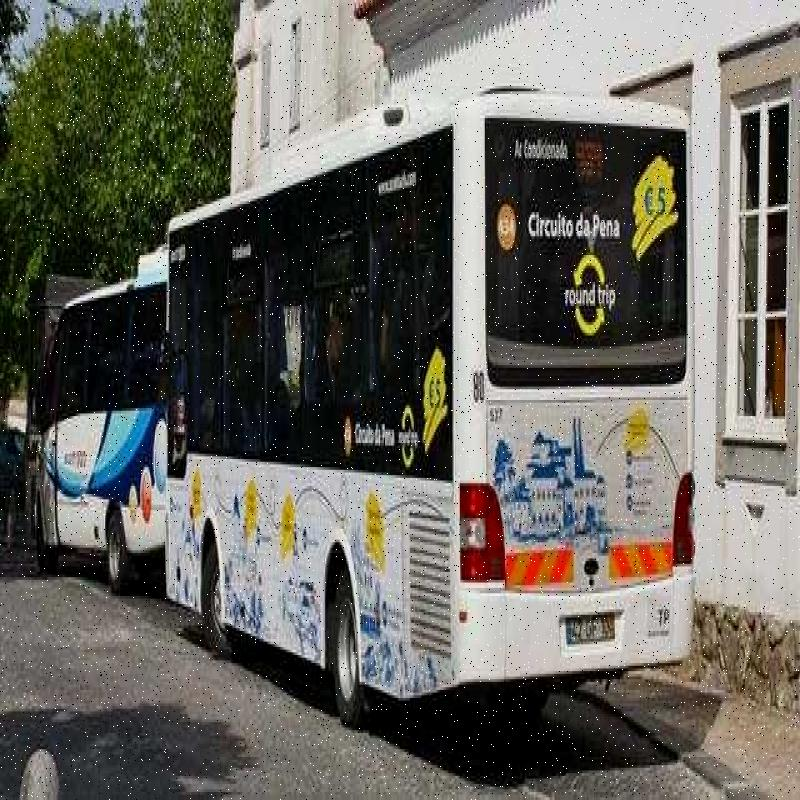bus: (154, 93, 712, 742)
